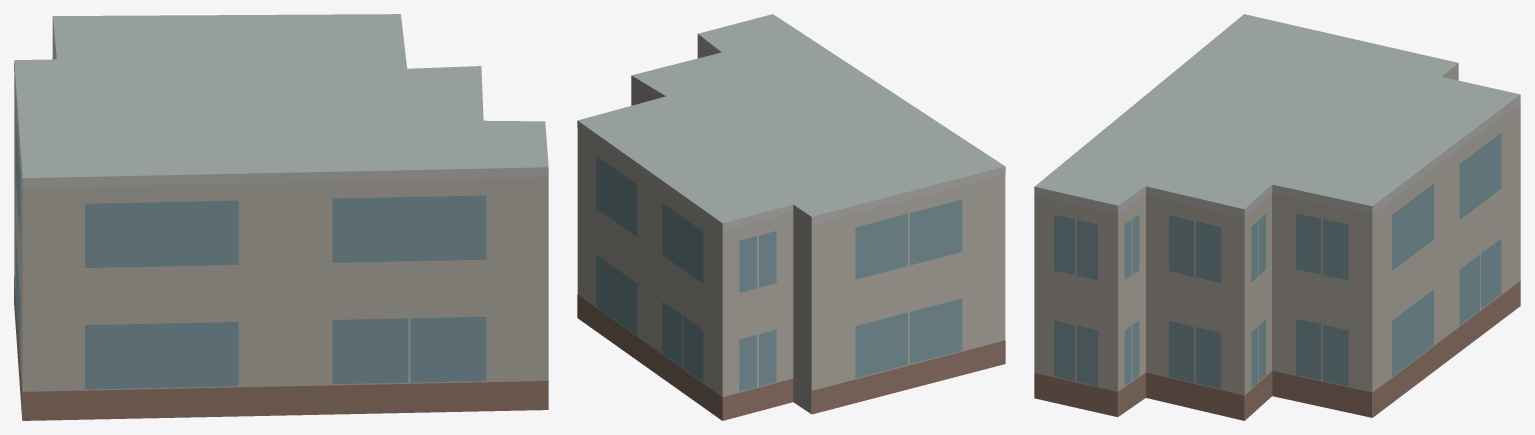
The model's file is survey-upis-32956909.glb.
3 views of the same model, side by side, from view 1: azimuth 30°, elevation 25°; view 2: azimuth 150°, elevation 25°; view 3: azimuth 270°, elevation 25° (orthographic). The views are drawn at different scales.
Parts seen in each view (by area): view 1: survey-upis-32956909.tmp; view 2: survey-upis-32956909.tmp; view 3: survey-upis-32956909.tmp.
Boxes of the visible parts, x1,y1,x2,y2 form: survey-upis-32956909.tmp: (14,14,548,420); survey-upis-32956909.tmp: (577,14,1005,420); survey-upis-32956909.tmp: (1034,14,1520,420).
Bounding box in the file's own units: 12.09 × 6.1 × 12.72.
